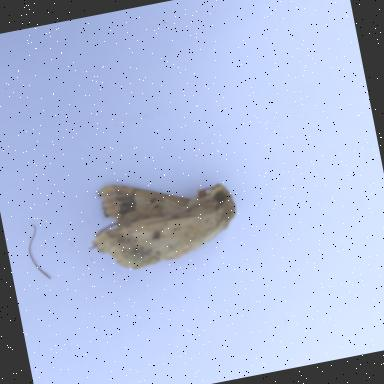abw: (74, 160, 246, 282)
